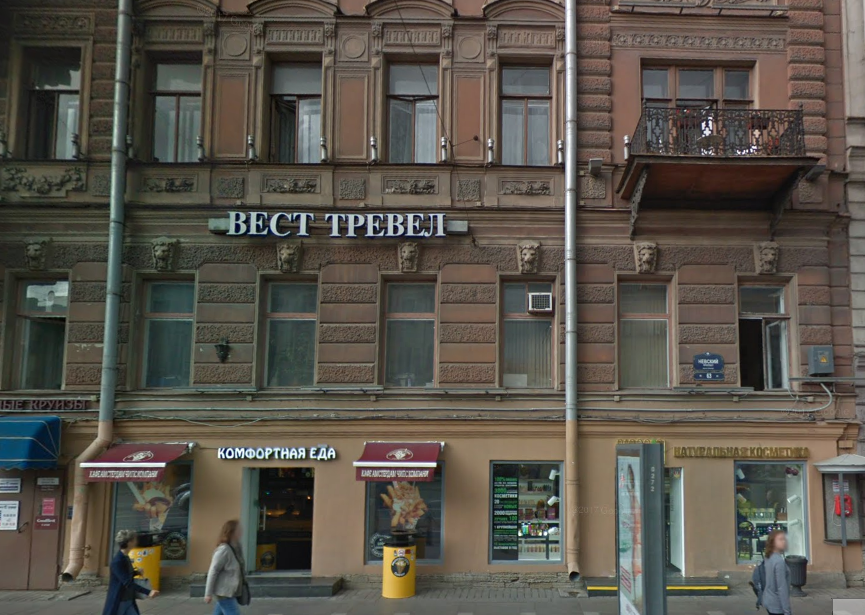signboard: (206, 205, 469, 242), (672, 441, 813, 460), (212, 443, 338, 462), (1, 398, 89, 412)
window: (490, 459, 564, 567), (738, 460, 809, 562), (19, 45, 77, 163), (145, 51, 206, 161), (495, 272, 551, 391), (265, 56, 324, 167), (735, 277, 792, 388), (112, 478, 186, 562), (257, 274, 312, 387), (643, 62, 751, 119), (10, 273, 64, 386), (379, 276, 434, 384), (500, 58, 553, 164), (142, 278, 193, 388), (619, 275, 667, 389), (386, 59, 438, 164)
